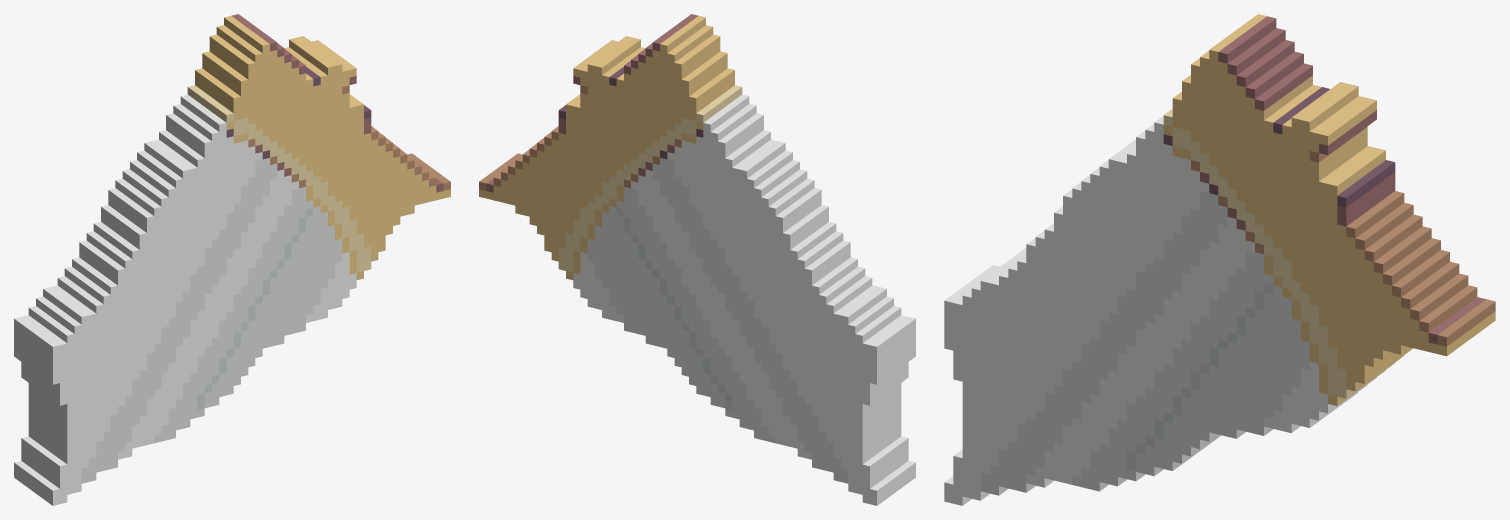
Rendered from mirror shard 4.fbx.
3 renders of one model, left to right at view 1: azimuth 30°, elevation 25°; view 2: azimuth 150°, elevation 25°; view 3: azimuth 330°, elevation 25°, orthographic. The views are drawn at different scales.
Parts seen in each view (by area): view 1: mirror shard 4.png; view 2: mirror shard 4.png; view 3: mirror shard 4.png.
Boxes of the visible parts, x1,y1,x2,y2 form: mirror shard 4.png: (14, 14, 450, 505); mirror shard 4.png: (479, 14, 915, 505); mirror shard 4.png: (944, 14, 1495, 505).
Size of the model in its own units: 29.68 by 29.14 by 5.
